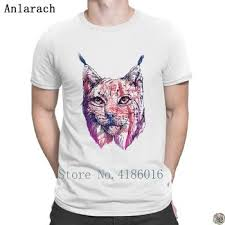cat: (73, 58, 154, 143)
